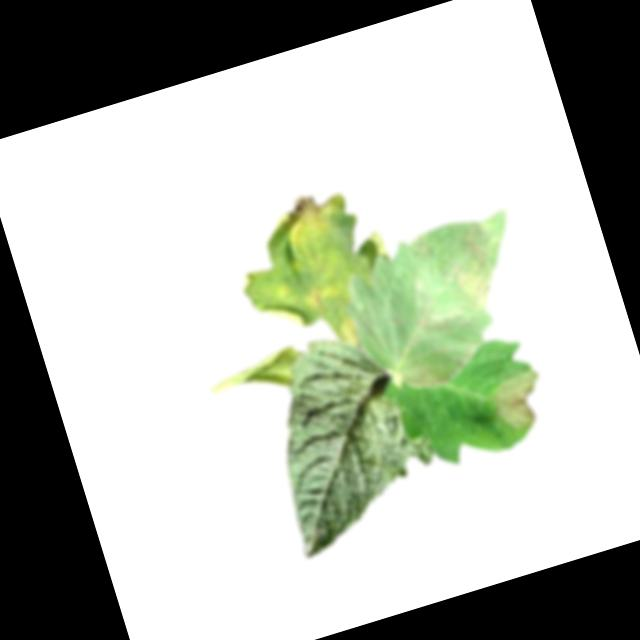Late_blight: (441, 216, 513, 315), (200, 343, 307, 409), (397, 336, 491, 396), (270, 188, 339, 252), (488, 368, 551, 435), (303, 281, 336, 315), (408, 230, 436, 265), (337, 313, 362, 350)
healthy: (244, 315, 453, 560)
